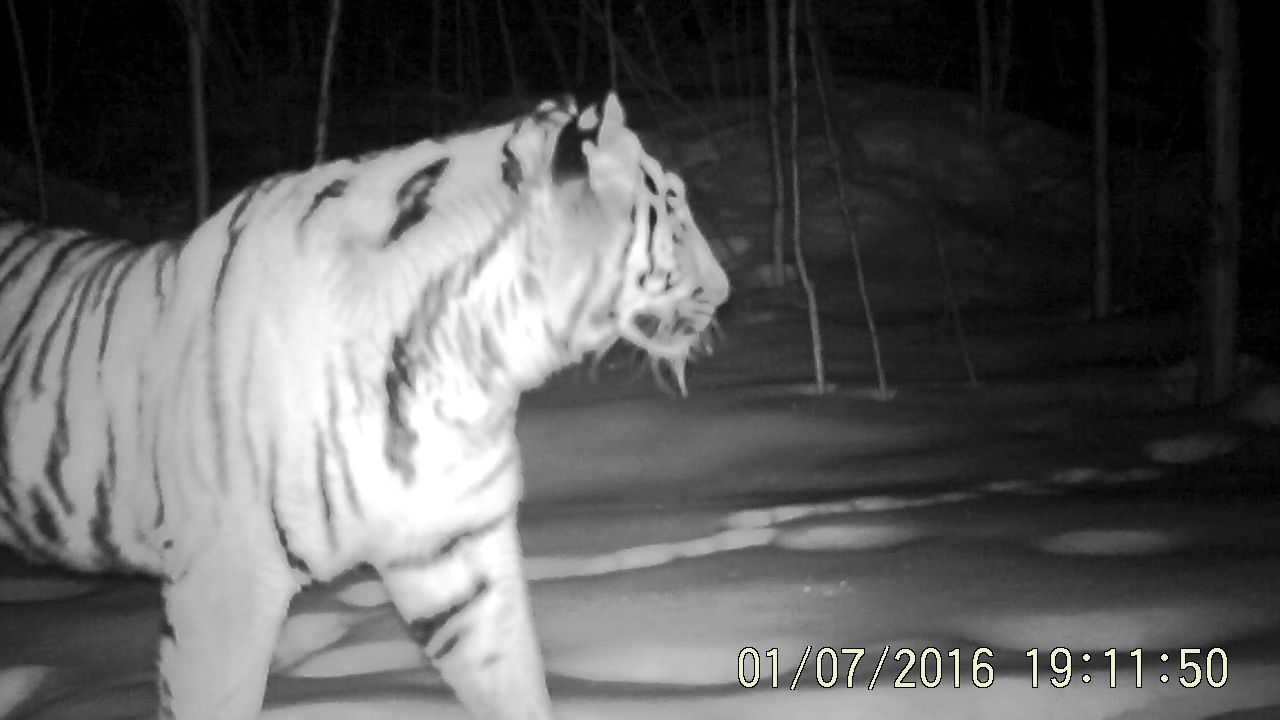Tiger: (3, 11, 730, 720)
